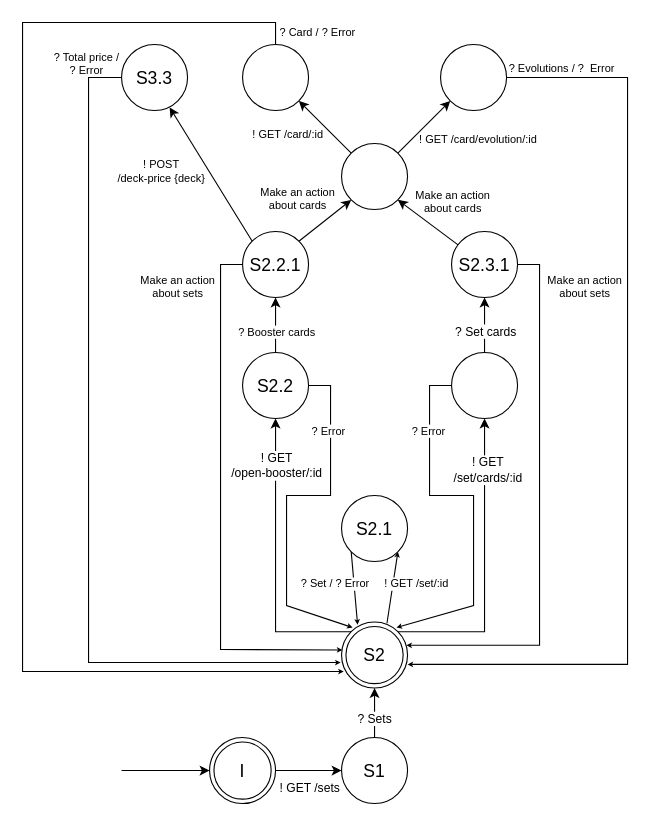
Image size: 651x823. Some labels were removed from this diagram. Each missing label, with the centre of its shape:
"S2.3" goes at point (484, 385).
"S3" goes at point (374, 176).
"S3.1" goes at point (275, 77).
"S3.2" goes at point (473, 77).
